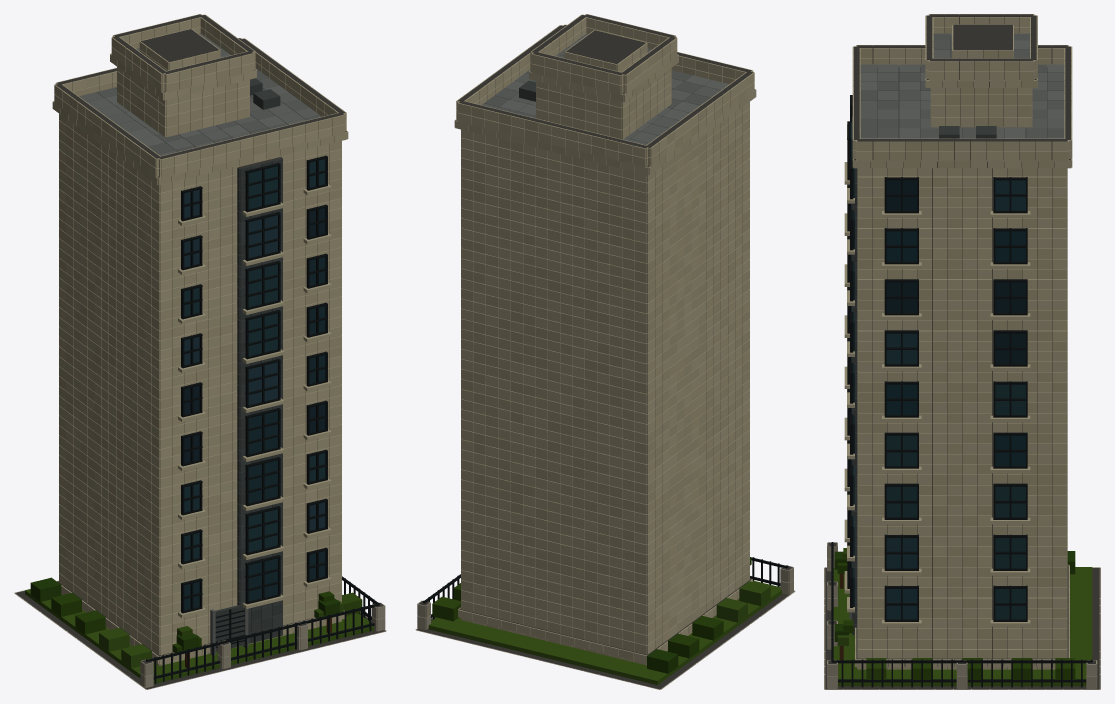
The model's file is SM_Mapa_054.fbx.
3 views of the same model, side by side, from view 1: azimuth 30°, elevation 25°; view 2: azimuth 150°, elevation 25°; view 3: azimuth 270°, elevation 25° (orthographic). The views are drawn at different scales.
Parts seen in each view (by area): view 1: SM_Mapa_054; view 2: SM_Mapa_054; view 3: SM_Mapa_054.
Boxes of the visible parts, box(x1,y1,x2,y2) form: SM_Mapa_054: box(14, 14, 386, 689); SM_Mapa_054: box(415, 14, 795, 689); SM_Mapa_054: box(824, 14, 1100, 689).
Bounding box in the file's own units: 14 × 13.36 × 31.26.
